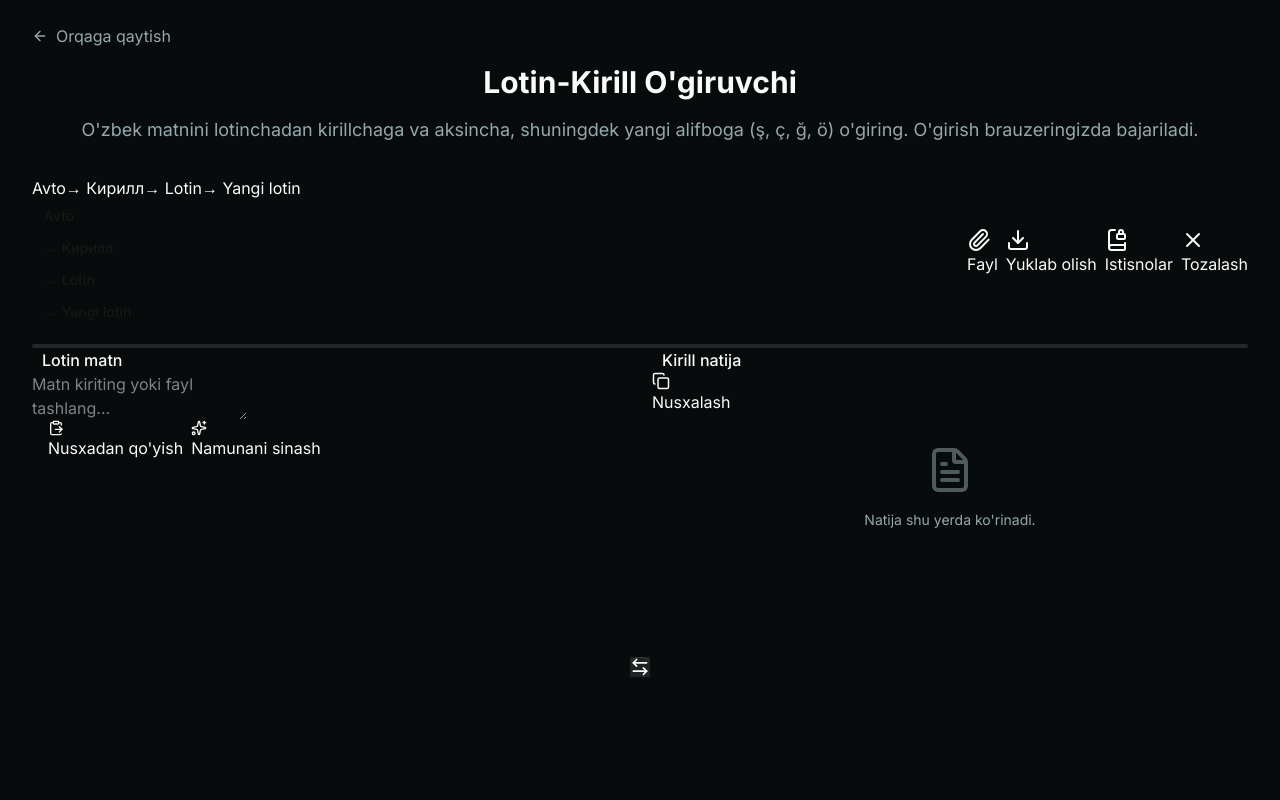
LatinCyrillic converter › sample button fills the source and the sample converts
Click the button "Namunani sinash".
click(256, 440)  # box [191,420,321,460]
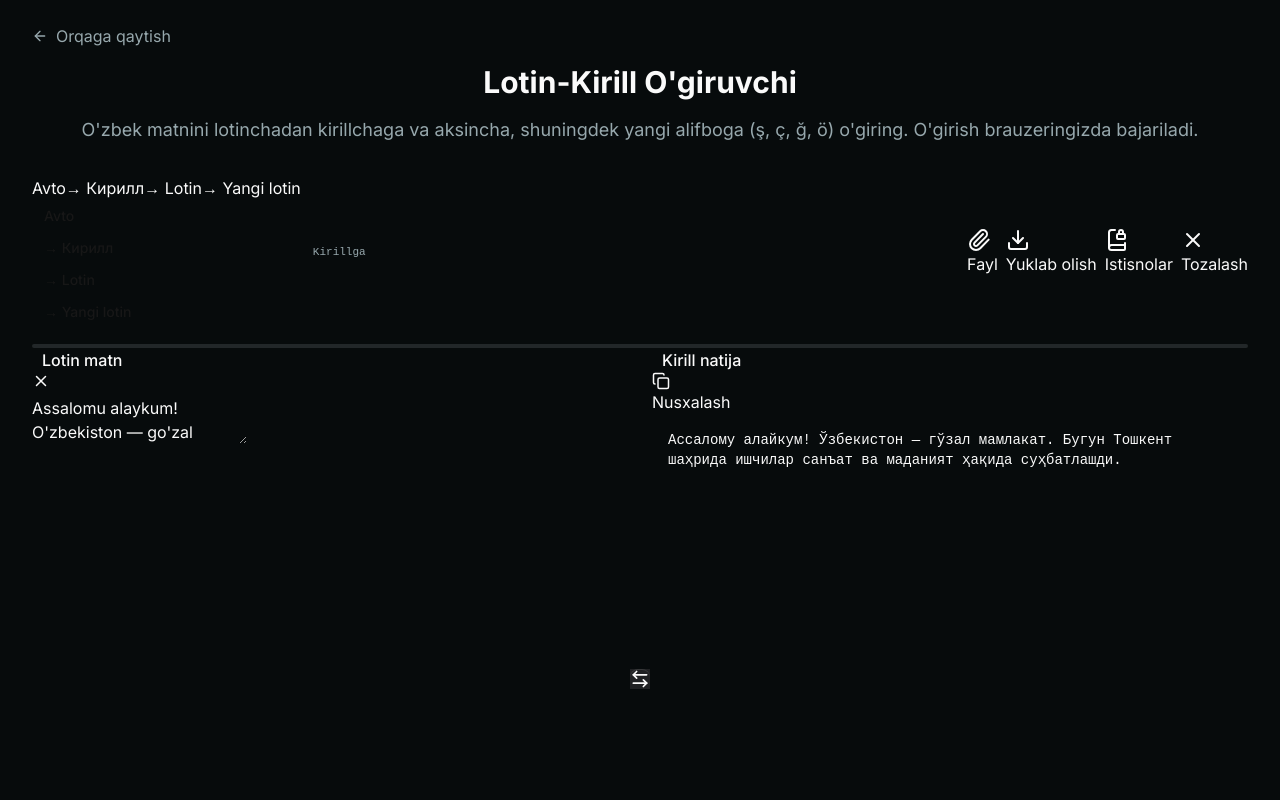
Expected: the text "Ассалому" is shown, [668,432,1180,468]
